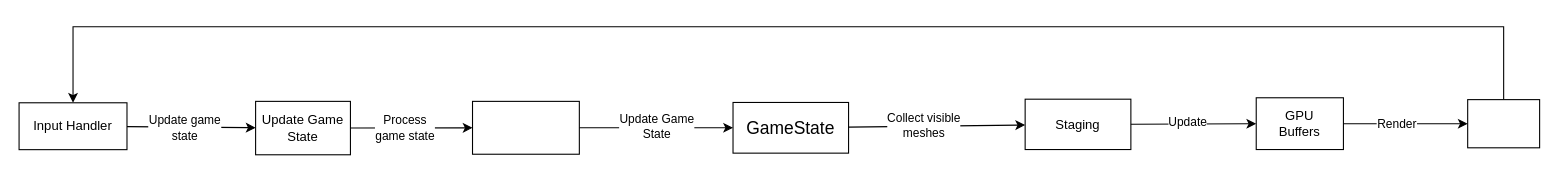
Image size: 1559x174. Some labels were removed from this diagram. Here are the shapes that lost their labels. From the top down, the box of each, then its label:
(471, 100, 579, 154): Phycics Engine
(1467, 99, 1540, 148): WGPU
